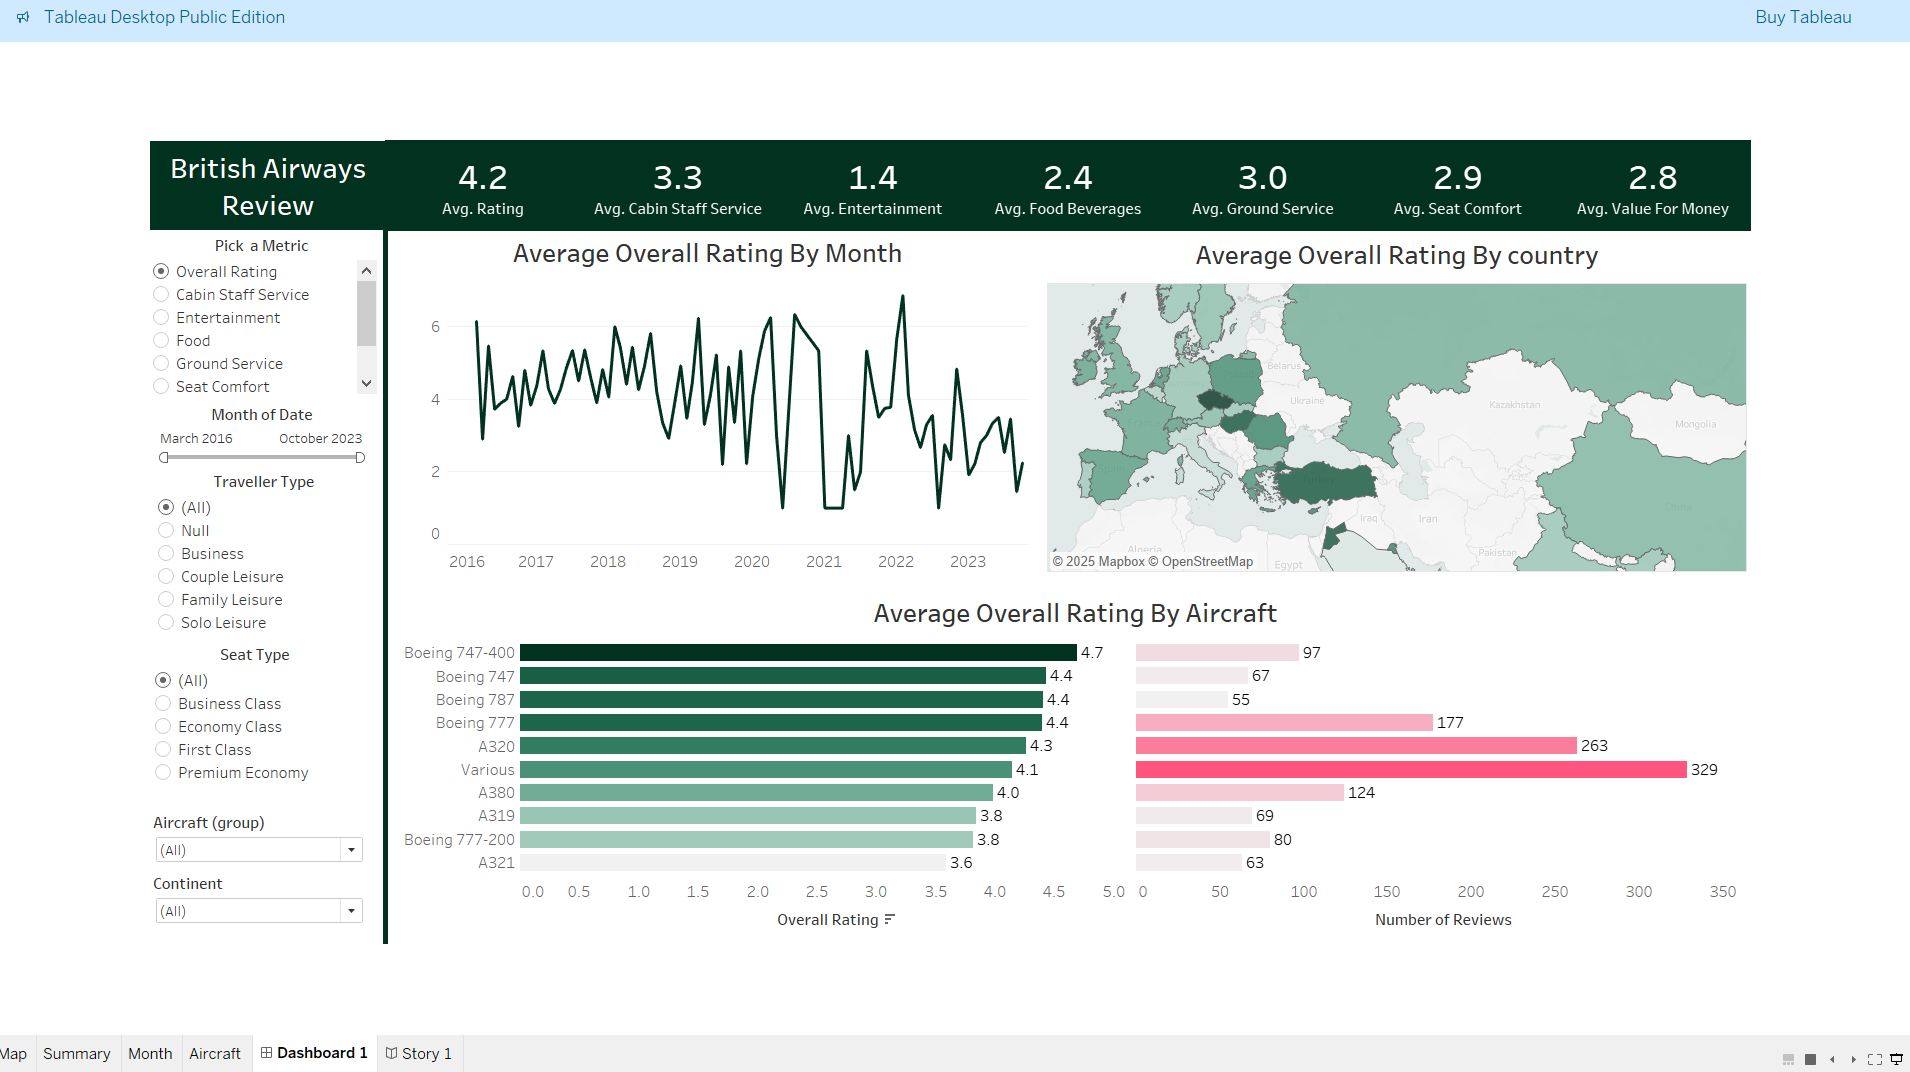

The page's visual inventory and layout, read from the dashboard file:
{"tool":"tableau","page":{"name":"Dashboard 1","canvas":[1600,800],"ordinal":0},"visuals":[{"type":"worksheet","title":"Summary","mark":"Automatic","box":[235,2.1,1366,90.8]},{"type":"text","box":[0,3.1,236,88.8]},{"type":"worksheet","title":"Month","mark":"Line","rows":["Calculation_298363507841990656"],"cols":["date"],"box":[237,93,641,343]},{"type":"worksheet","title":"Map","mark":"Automatic","box":[897,95,700,339]},{"type":"filter","title":"Map","param":"[federated.0x1e8w30dwjds2149grlz02mjloj].[tmn:date:qk]","box":[5,266.3,214,66.1]},{"type":"filter","title":"Map","param":"[federated.0x1e8w30dwjds2149grlz02mjloj].[none:traveller_type:nk]","box":[1,333.4,226,167.2]},{"type":"worksheet","title":"Aircraft","mark":"Automatic","cols":["Calculation_298363507841990656","ba_reviews.csv_073BDF6F24544434921BD818E217981D"],"box":[250,453,1351,346]},{"type":"filter","title":"Map","param":"[federated.0x1e8w30dwjds2149grlz02mjloj].[Aircraft (group)]","box":[2.7,674.3,213.3,60.6]},{"type":"filter","title":"Map","param":"[federated.0x1e8w30dwjds2149grlz02mjloj].[none:Continent:nk]","box":[2.7,734.9,213.3,61.7]}]}

Visuals, with their boxes on the page's 1600x800 design canvas (x1, y1, x2, y2). These are canvas units, not pixel positions in the 1910x1072 screenshot, which may show the page scaled, cropped or inside an application window:
"Summary" worksheet: bbox(235, 2, 1601, 93)
text: bbox(0, 3, 236, 92)
"Month" worksheet (Line marks): bbox(237, 93, 878, 436)
"Map" worksheet: bbox(897, 95, 1597, 434)
"Map" filter: bbox(5, 266, 219, 332)
"Map" filter: bbox(1, 333, 227, 501)
"Aircraft" worksheet: bbox(250, 453, 1601, 799)
"Map" filter: bbox(3, 674, 216, 735)
"Map" filter: bbox(3, 735, 216, 797)
